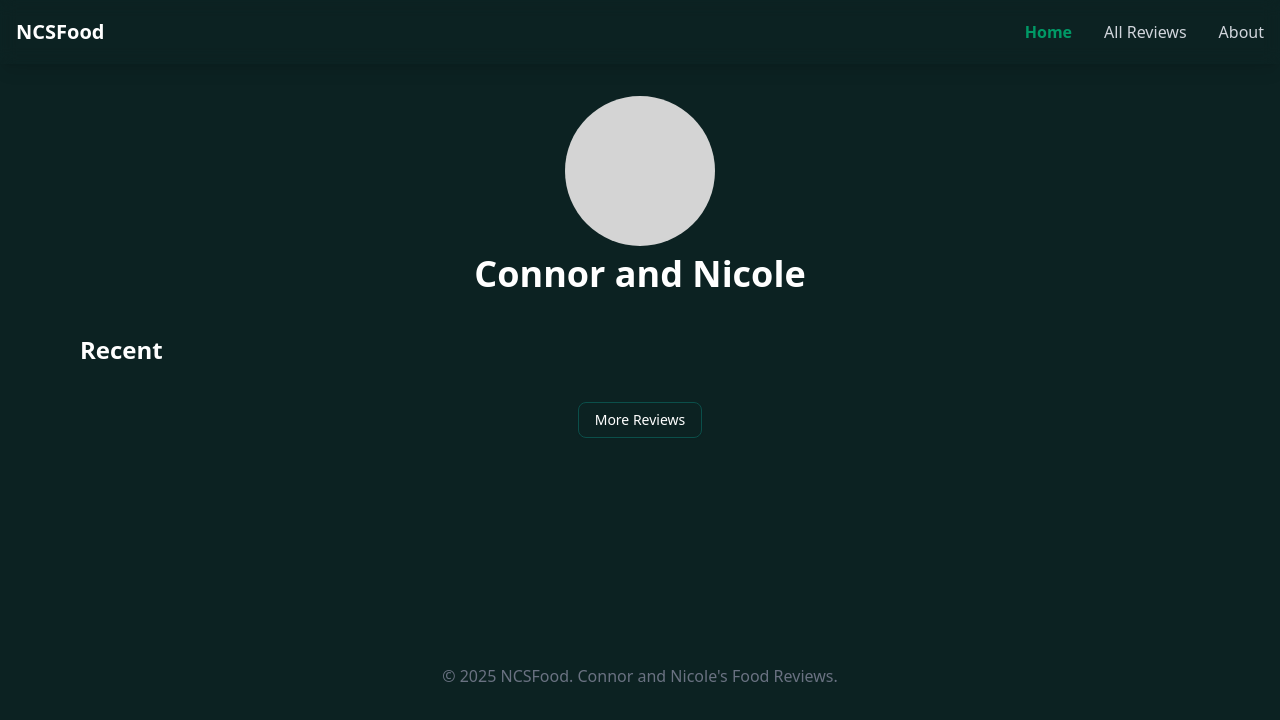
Test case: Navigation › should navigate to about page
This screenshot has width=1280, height=720.
Click the link "About". click: (1242, 32)
box: [1219, 20, 1264, 44]
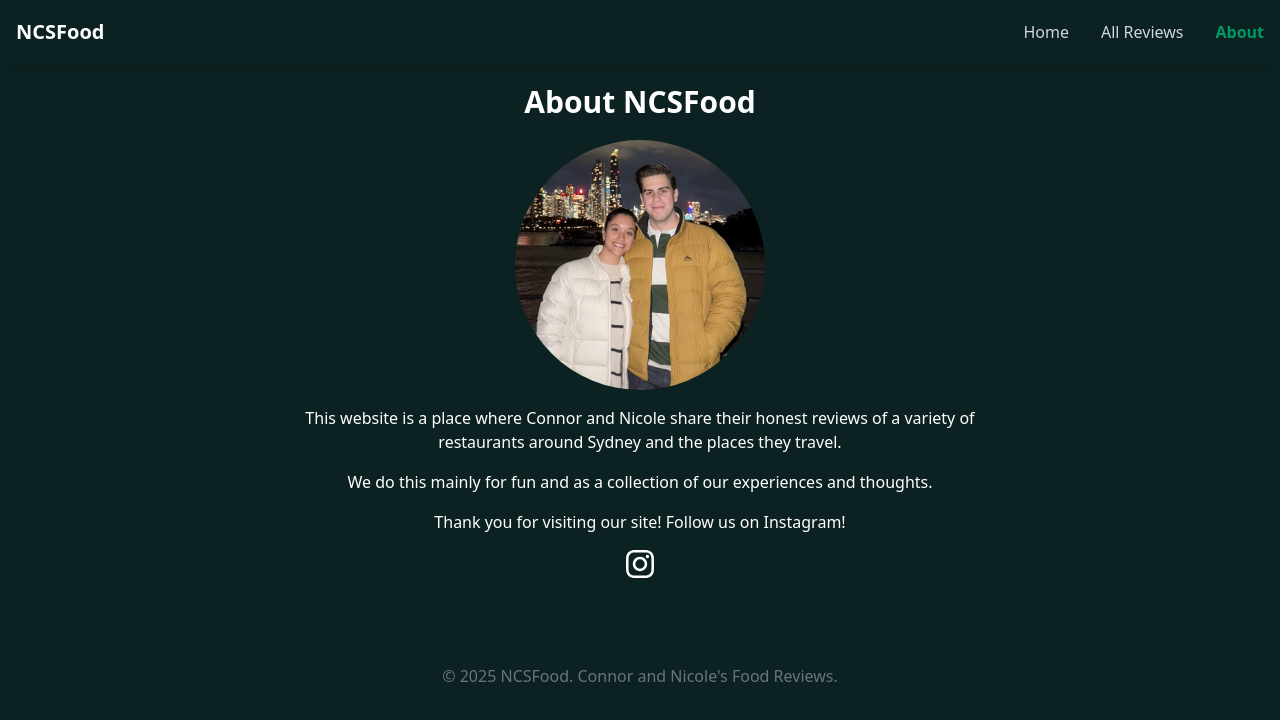
Result: the heading "About NCSFood" is shown at [524, 81, 756, 122]
